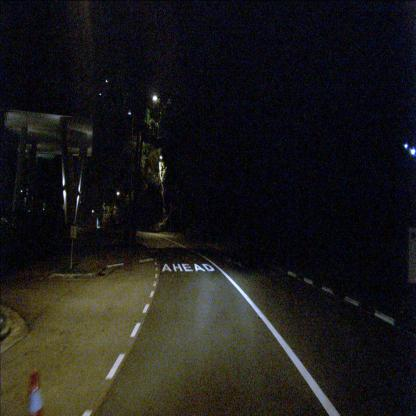cone: (28, 371, 44, 415)
